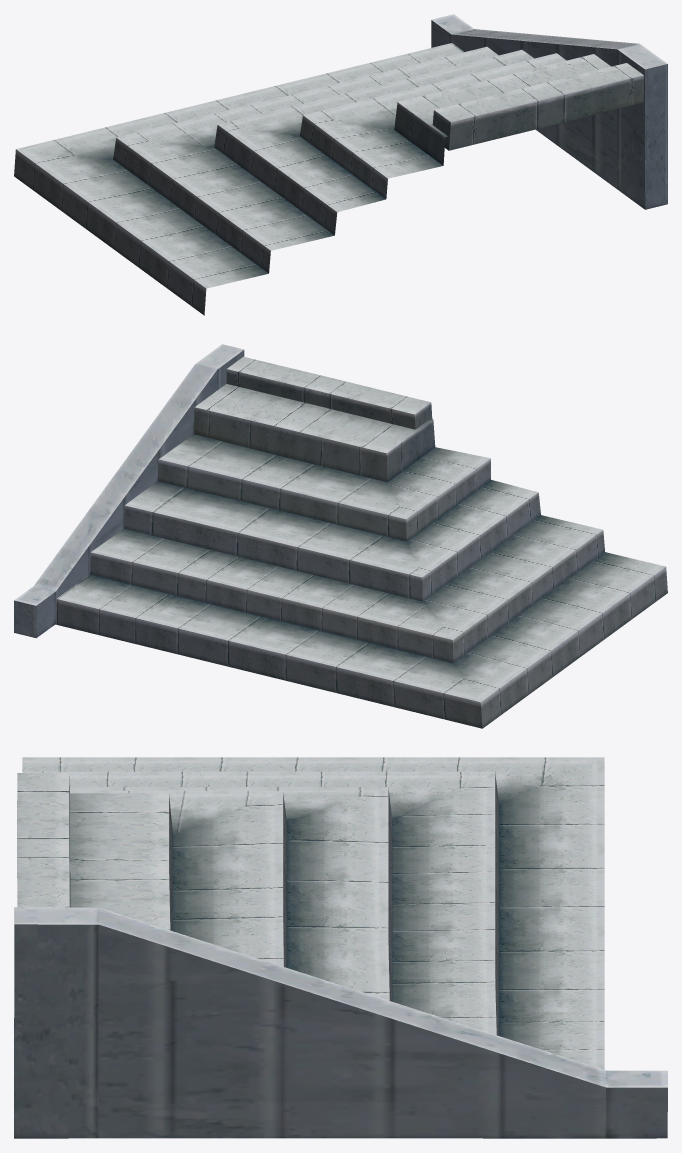
3 views of the same model, one above another, from view 1: azimuth 30°, elevation 25°; view 2: azimuth 150°, elevation 25°; view 3: azimuth 270°, elevation 25° (orthographic). The views are drawn at different scales.
Parts seen in each view (by area): view 1: geom_node_0; view 2: geom_node_0; view 3: geom_node_0.
Boxes of the visible parts, x1,y1,x2,y2 form: geom_node_0: (14,14,667,315); geom_node_0: (14,344,667,728); geom_node_0: (14,757,667,1138).
Bounding box in the file's own units: 10.87 × 3.19 × 8.74.
2 materials, 2 textured.
